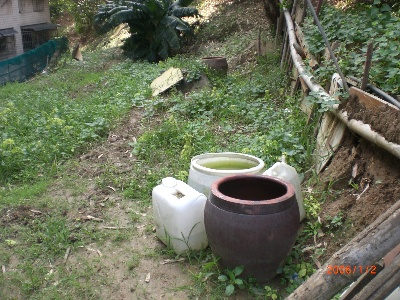bowl: (203, 173, 299, 283)
bucket: (151, 175, 209, 255)
